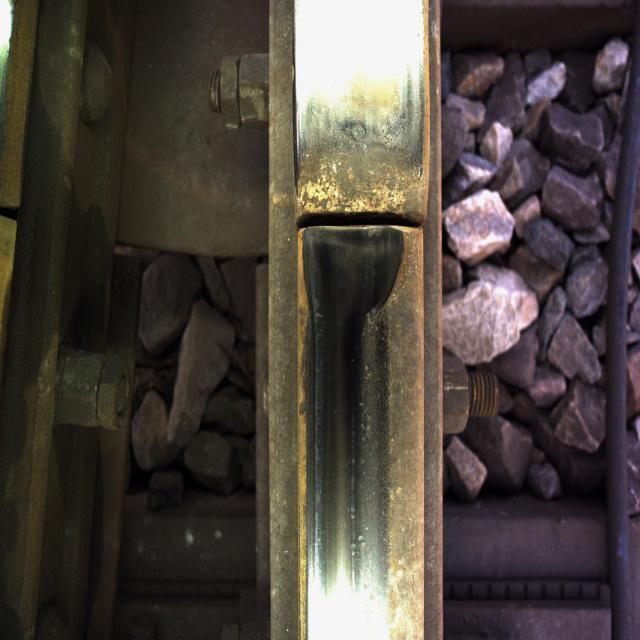spalling: (281, 159, 450, 271)
